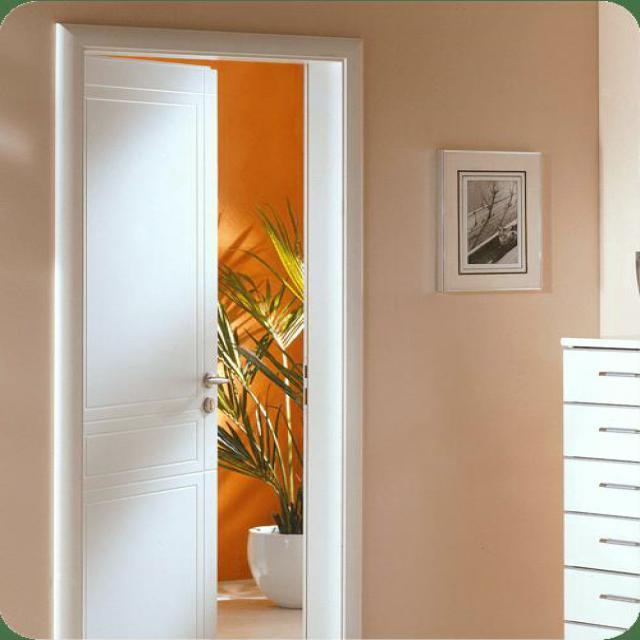door: (45, 19, 379, 639)
